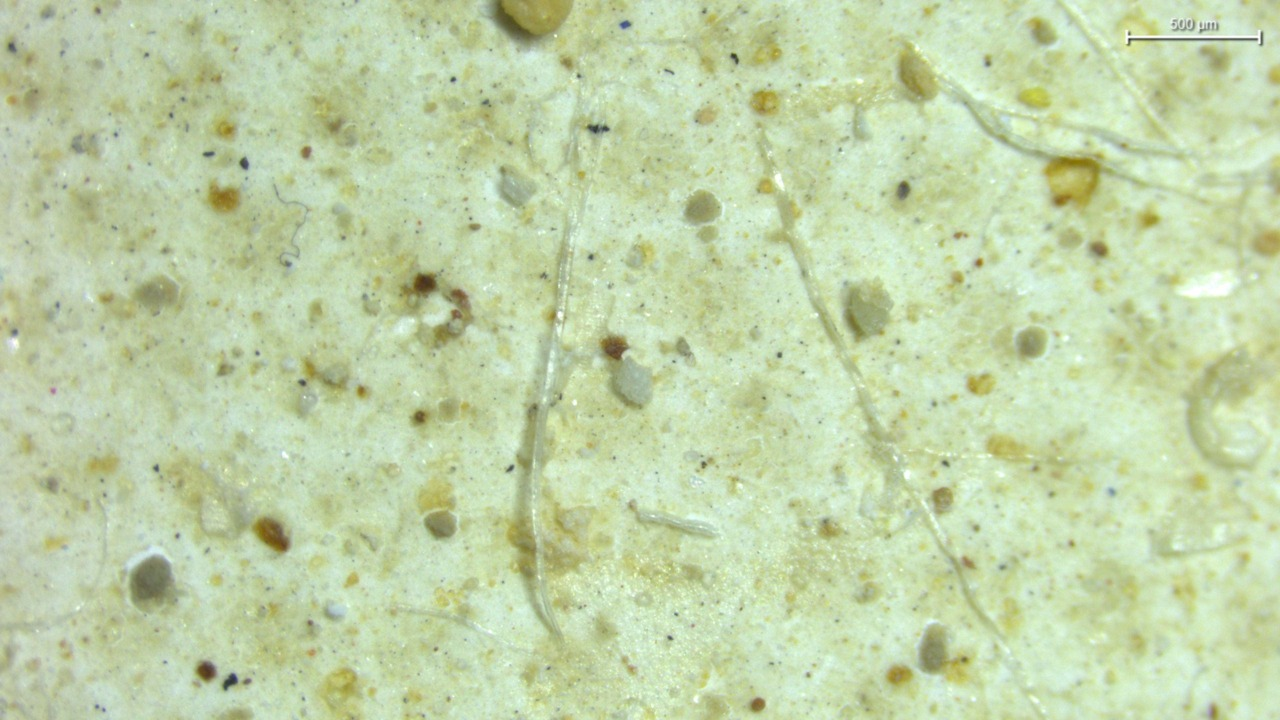microplastic_fragment: (760, 129, 920, 500), (515, 189, 585, 636), (920, 502, 999, 637), (631, 504, 719, 537), (845, 279, 893, 338), (900, 45, 940, 99), (611, 357, 653, 406), (498, 167, 536, 208)
